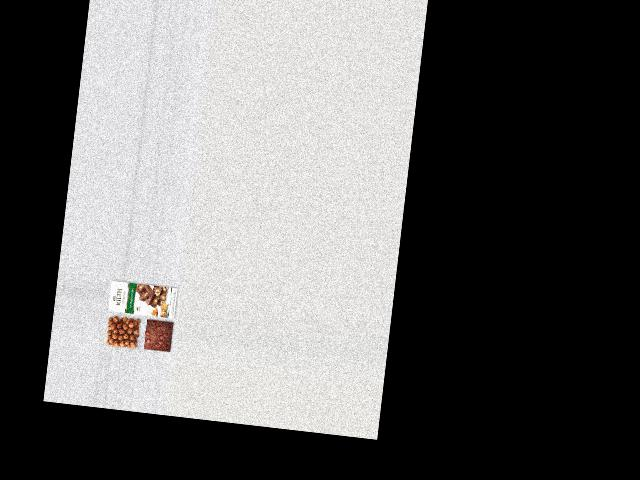chocolate: (142, 317, 175, 355)
